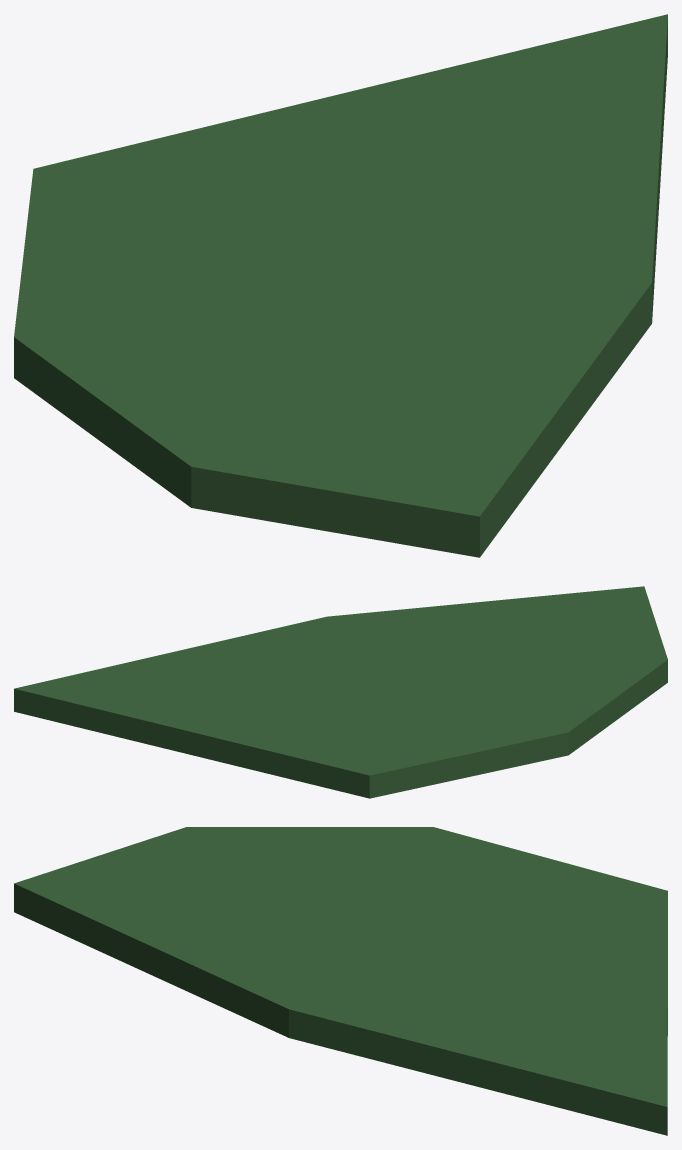
Rendered from x_proval_00_55_1_rmstrd_mirror.fbx.
The picture shows the model from 3 angles, top to bottom: view 1: azimuth 30°, elevation 25°; view 2: azimuth 150°, elevation 25°; view 3: azimuth 270°, elevation 25°; orthographic projection. The views are drawn at different scales.
Visible parts, largest first — view 1: x_proval_00_55_1_rmstrd_mirror1; view 2: x_proval_00_55_1_rmstrd_mirror1; view 3: x_proval_00_55_1_rmstrd_mirror1.
Part boxes in pixels (x1,y1,x2,y2): x_proval_00_55_1_rmstrd_mirror1: [14, 14, 667, 557]; x_proval_00_55_1_rmstrd_mirror1: [14, 586, 667, 798]; x_proval_00_55_1_rmstrd_mirror1: [14, 827, 667, 1135].
Bounding box in the file's own units: 4.18 × 0.2 × 4.12.
